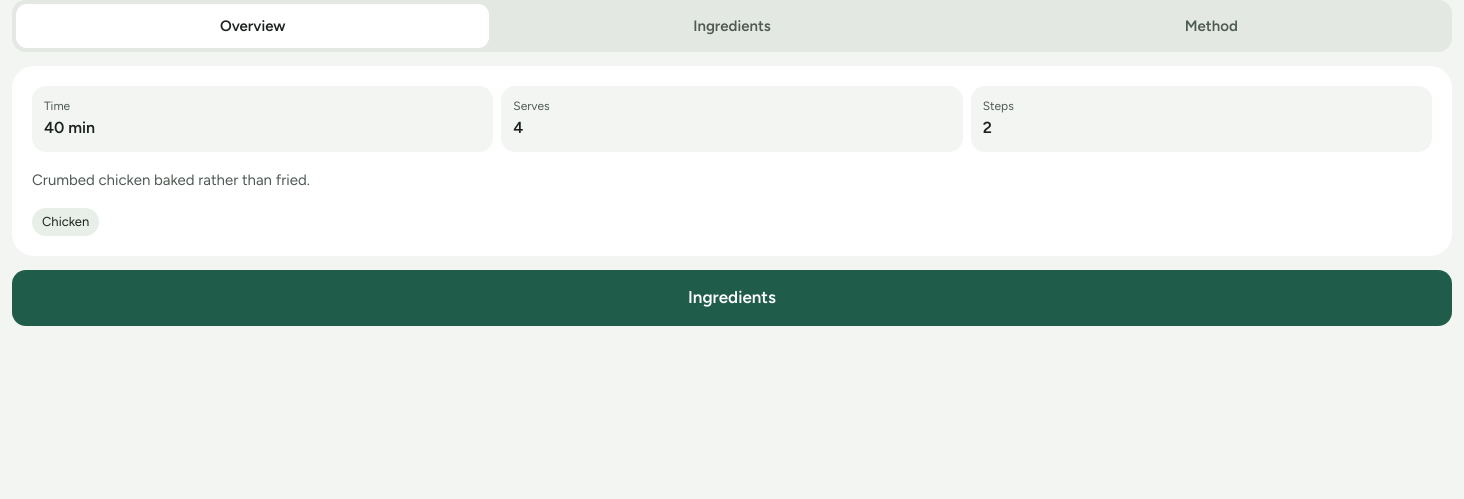
Scenario: RecipePages › rescales ingredients and the steps from the servings control
Click the tab "Ingredients": [732, 26] box [495,4,969,48]
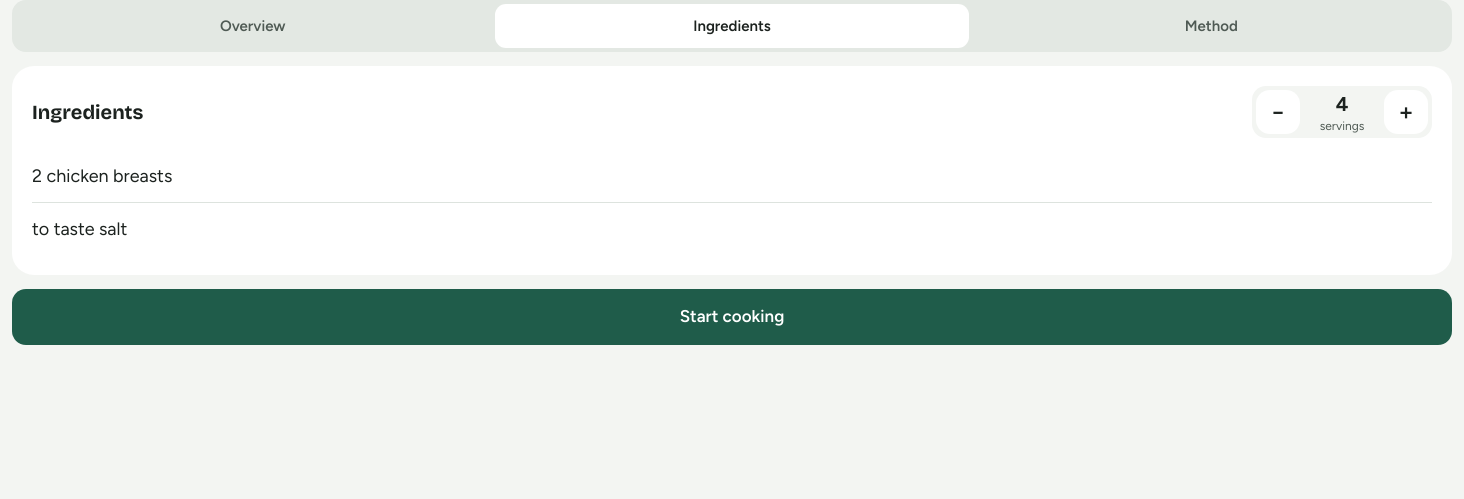
Now the list with test id "cook-ingredient-list" shows "2 chicken breasts", box [32,165,172,187]
Click the button named "More servings": [1406, 112] box [1384,90,1428,134]
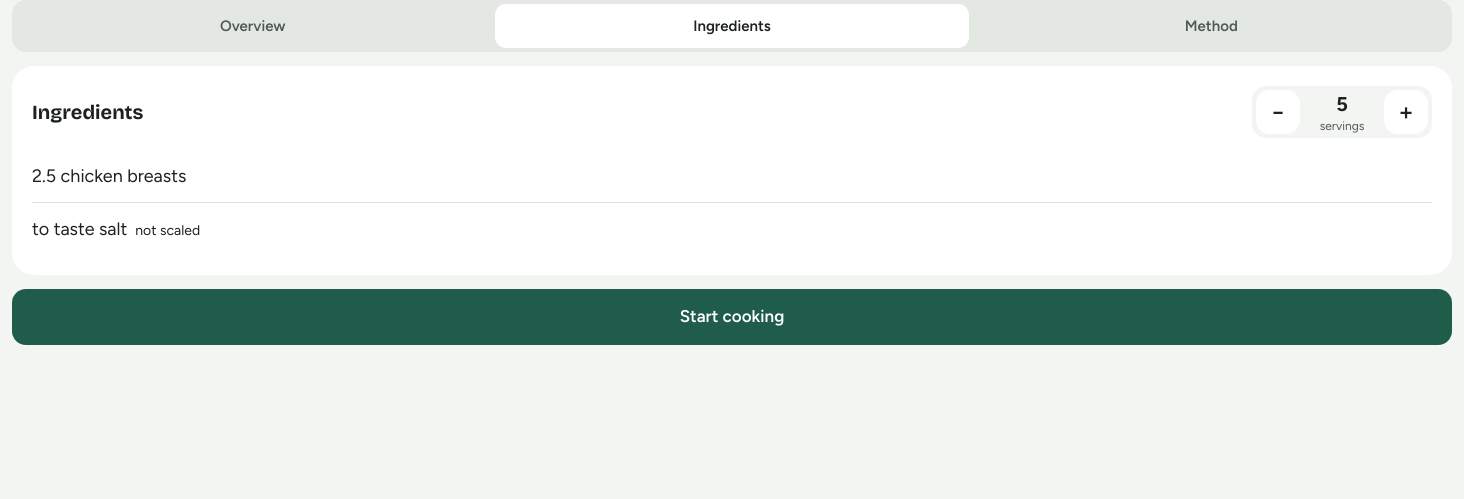
Click the button named "More servings": [1406, 112] box [1384,90,1428,134]
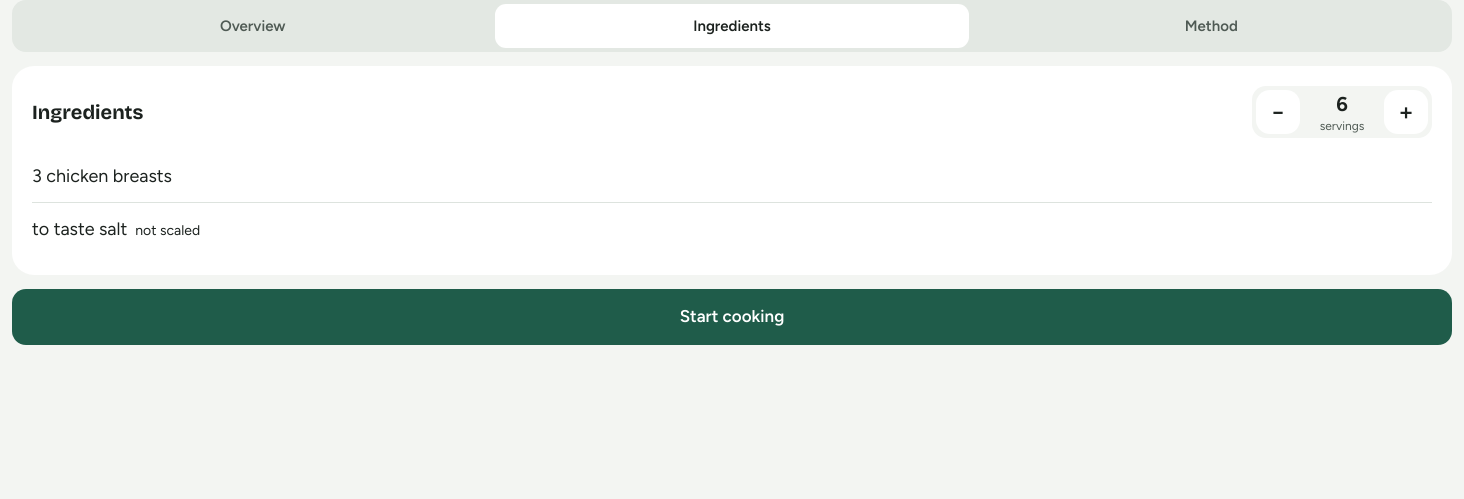
Now the text with test id "servings-value" reads "6", box [1336,92,1348,116]
Now the list with test id "cook-ingredient-list" shows "3 chicken breasts", box [32,165,172,187]
Click the tab "Method": [1211, 26] box [975,4,1448,48]
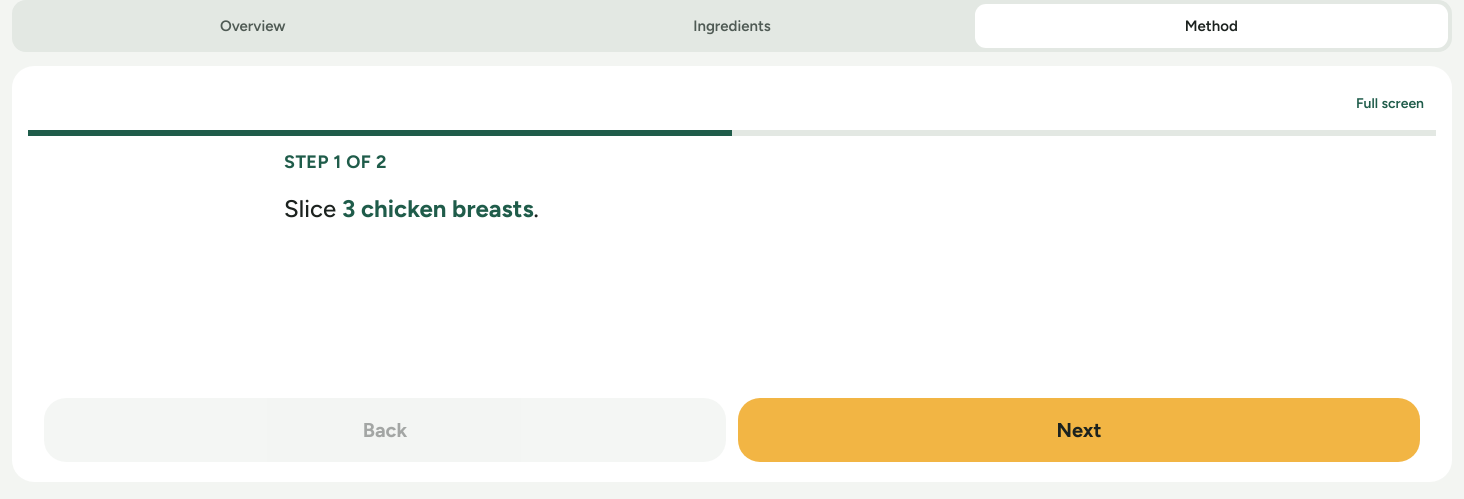
Now the element with test id "step-text" reads "Slice 3 chicken breasts.", box [284,194,539,223]
